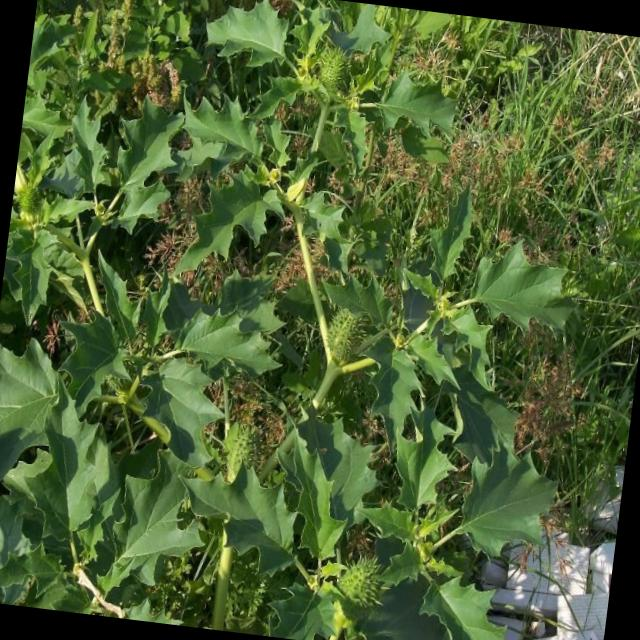Poisonous-Datura_Stramonium: (0, 365, 494, 640), (88, 0, 433, 306)
